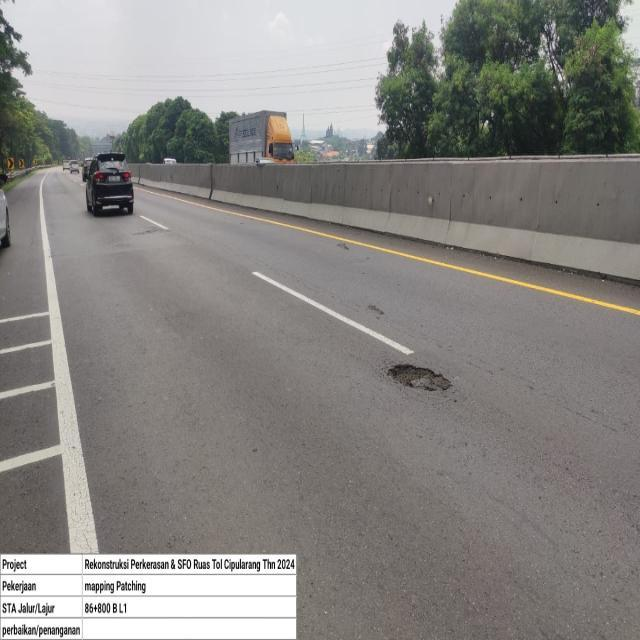Buraco: (383, 362, 456, 394)
